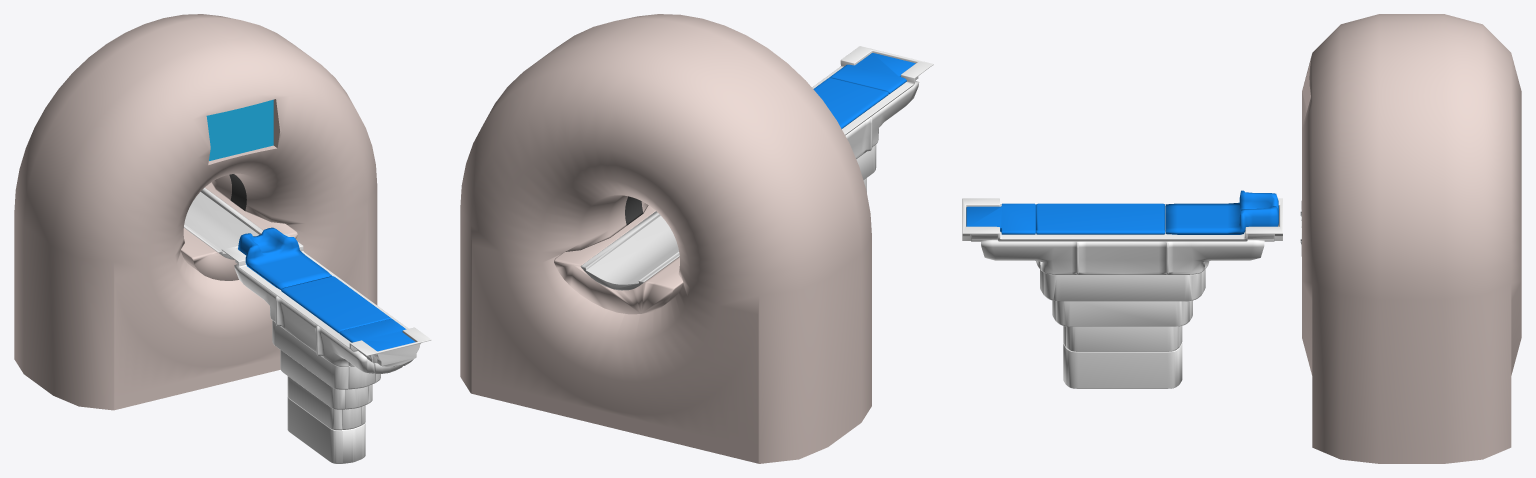
The picture shows the model from 3 angles, left to right: view 1: azimuth 30°, elevation 25°; view 2: azimuth 150°, elevation 25°; view 3: azimuth 270°, elevation 25°; orthographic projection. The views are drawn at different scales.
Visible parts, largest first — view 1: EM-54a; view 2: EM-54a; view 3: EM-54a.
Boxes of the visible parts, x1=… form: EM-54a: x1=14, y1=14, x2=431, y2=463; EM-54a: x1=460, y1=14, x2=933, y2=463; EM-54a: x1=962, y1=14, x2=1521, y2=463.
Bounding box in the file's own units: 260 × 248 × 362.
